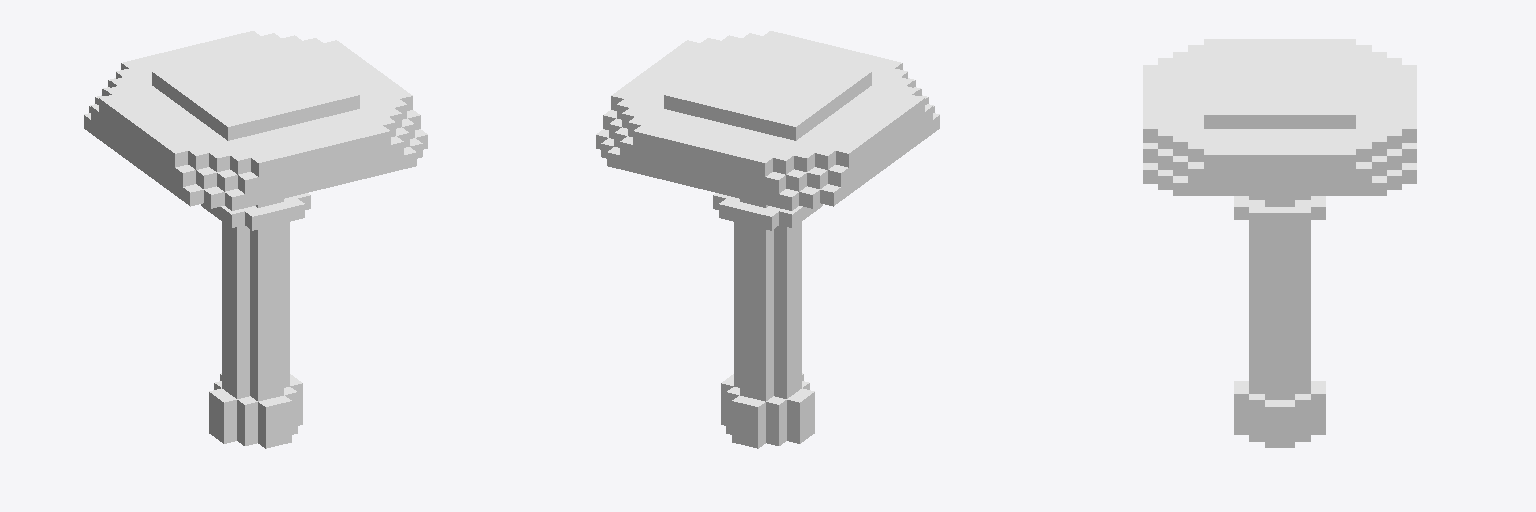
Rendered from czubajka_kania.obj.
3 renders of one model, left to right at view 1: azimuth 30°, elevation 25°; view 2: azimuth 150°, elevation 25°; view 3: azimuth 270°, elevation 25°, orthographic.
Bounding box in the file's own units: 18 × 25 × 18.